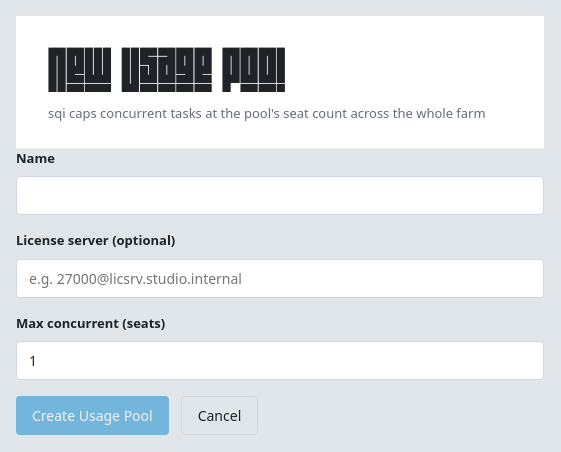
Test: UsagePoolForm (create) › disables submit when max concurrent is below 1
Step 1. Type "arnold" into the field labelled "Name" → (280, 196), box [16,176,544,215]
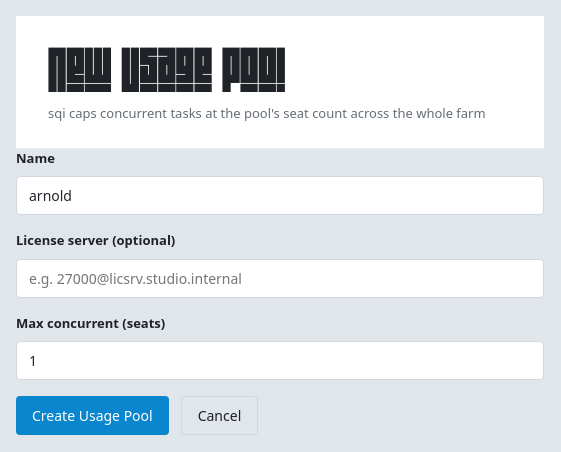
Step 2. Replace the text in the number field labelled "Max concurrent (seats)" with "0" → (280, 360), box [16,341,544,380]
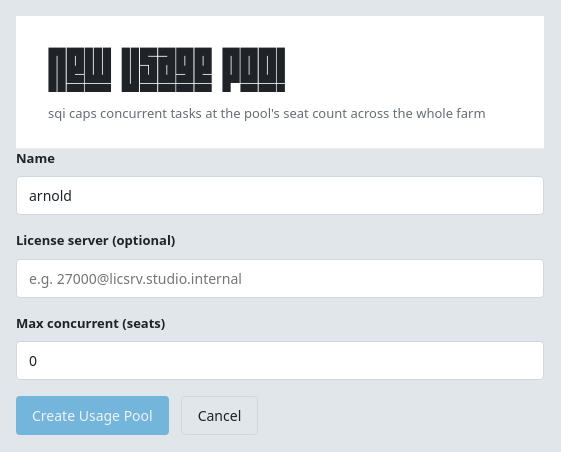
Result: the button "Create Usage Pool" is disabled at [16,396,169,435]
